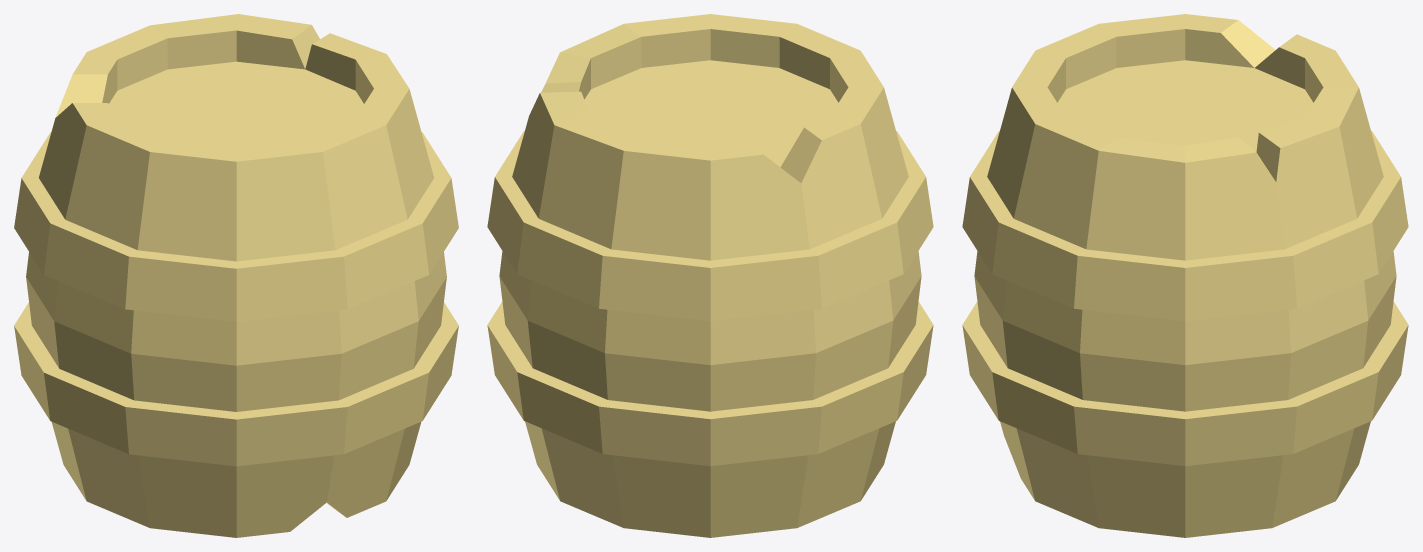
File: Barrel.002.fbx
3 renders of one model, left to right at view 1: azimuth 30°, elevation 25°; view 2: azimuth 150°, elevation 25°; view 3: azimuth 270°, elevation 25°, orthographic.
Visible parts, largest first — view 1: Barrel.002; view 2: Barrel.002; view 3: Barrel.002.
Part boxes in pixels (left/top/right/bottom): Barrel.002: left=14, top=14, right=458, bottom=537; Barrel.002: left=487, top=14, right=933, bottom=537; Barrel.002: left=962, top=14, right=1408, bottom=537.
Bounding box in the file's own units: 93.22 × 86.99 × 93.22.
